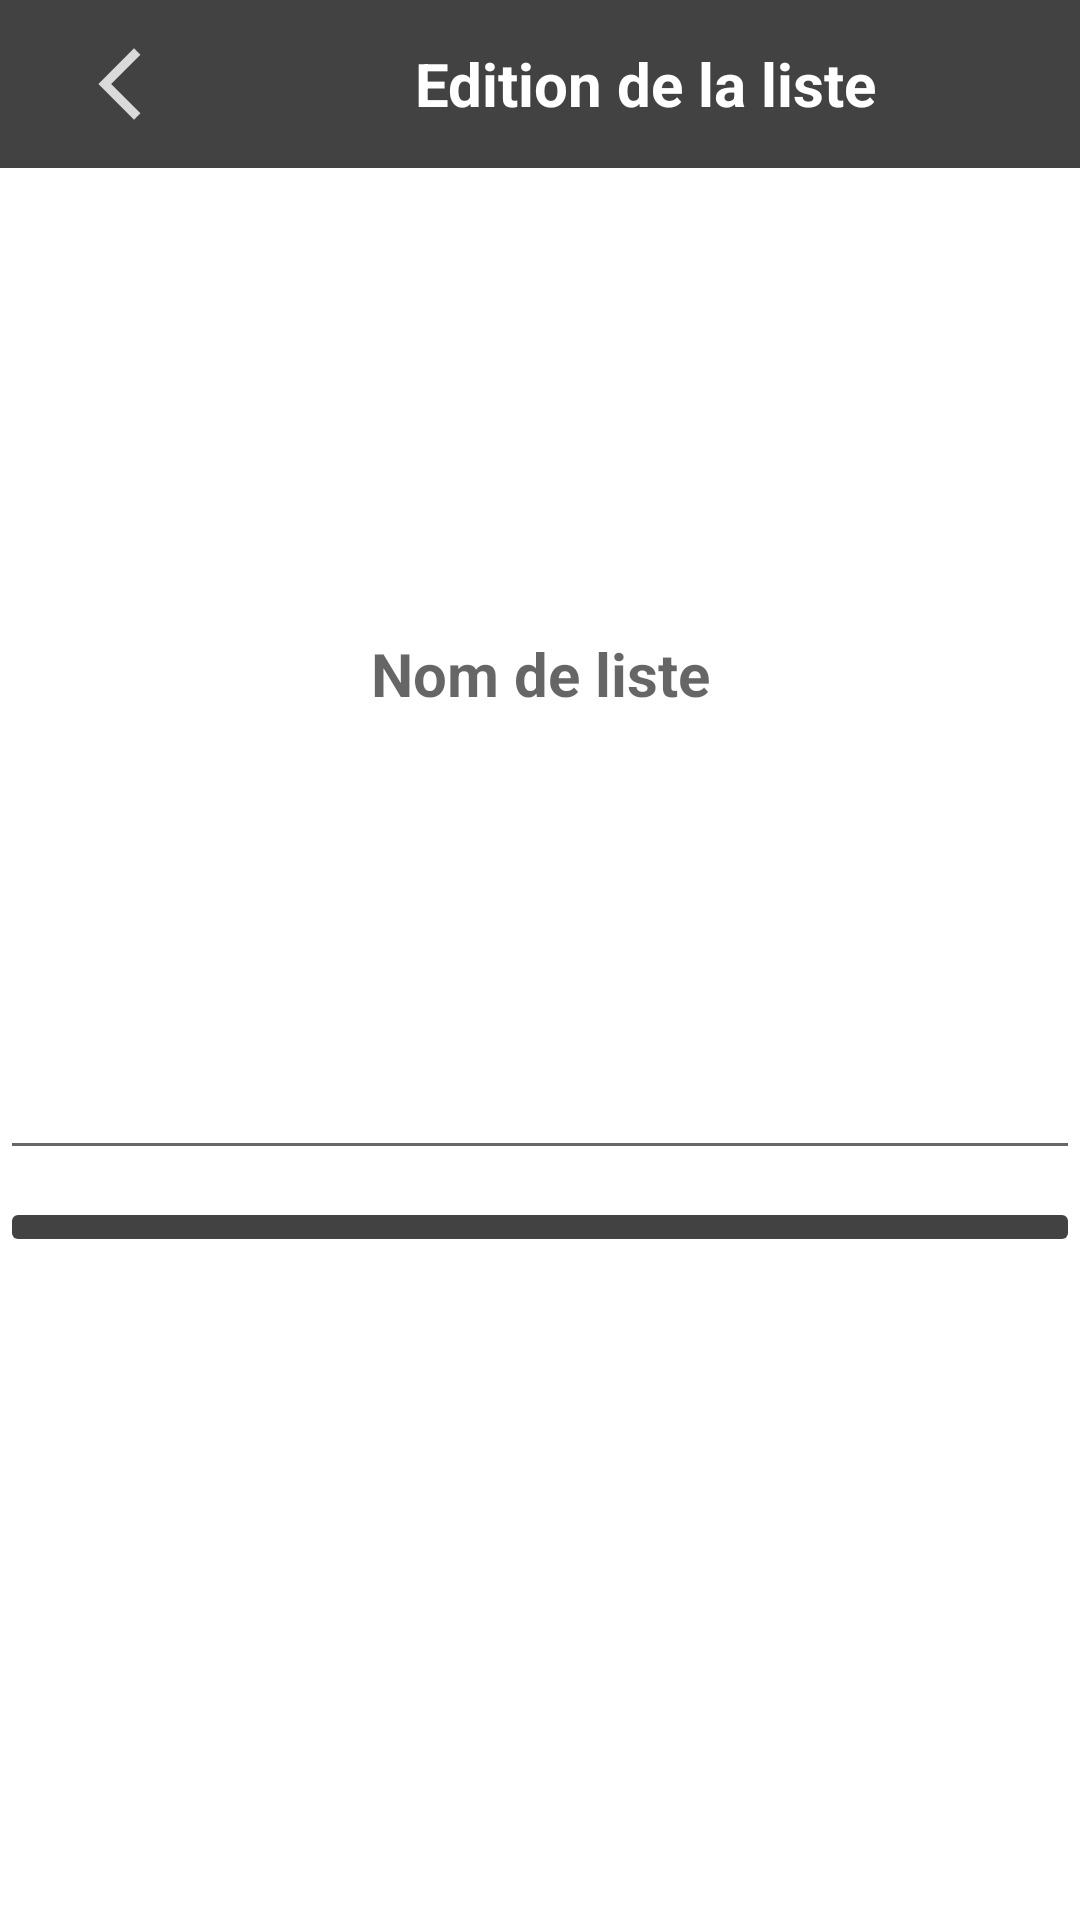

Icon bounding boxes for this 1080px x 1920px phone screenshot, format (x1, y1, x2, y2):
retour: (98, 48, 140, 120)
